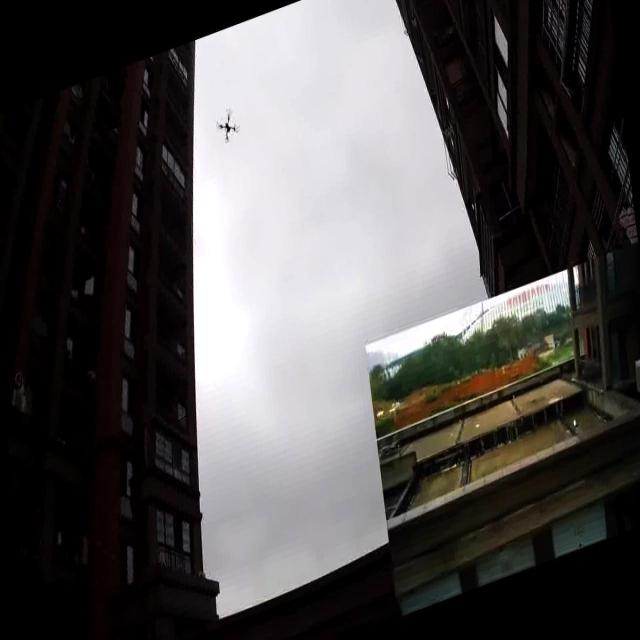drone: (212, 102, 237, 148)
